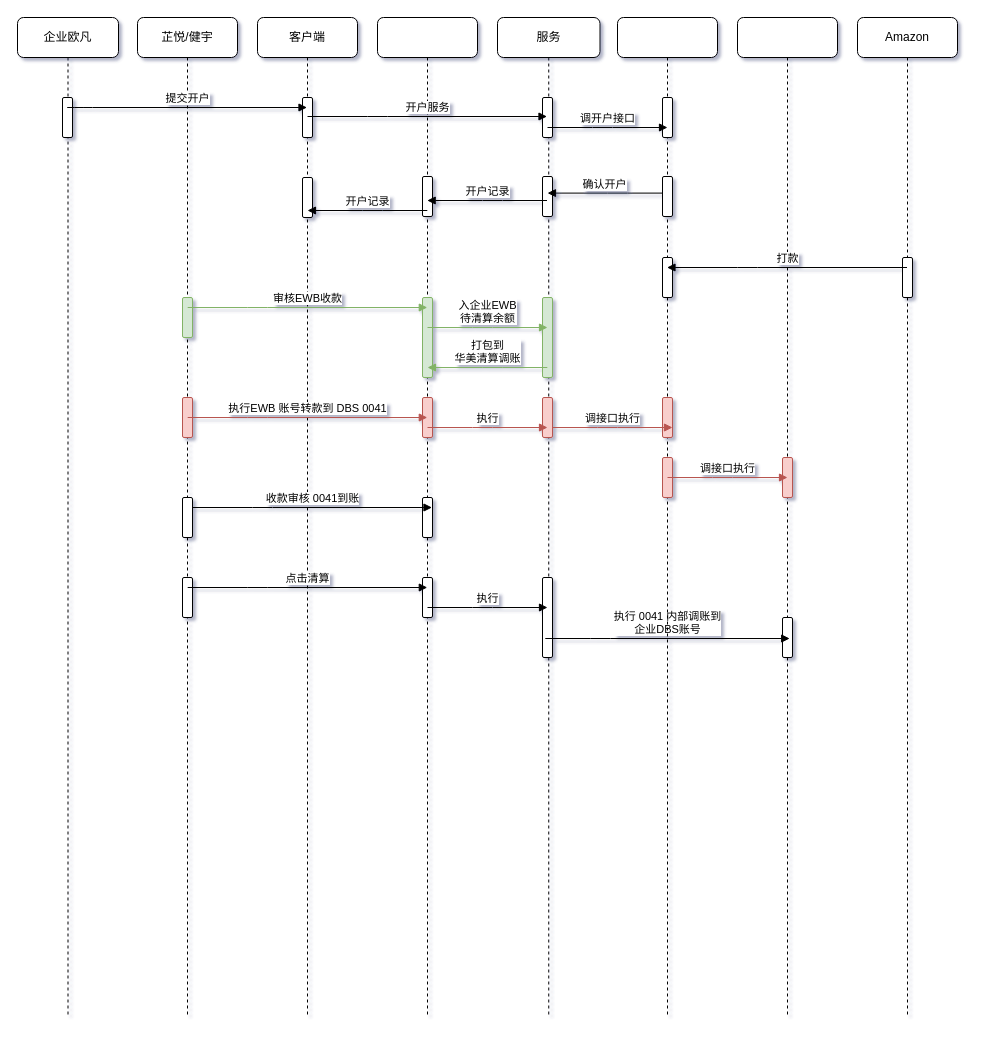
This 981x1041 diagram has some shape labels left out. Each missing label, with the centre of its shape:
"DBS" goes at (x=787, y=517).
"EWB" goes at (x=667, y=517).
"内管端" goes at (x=427, y=517).
